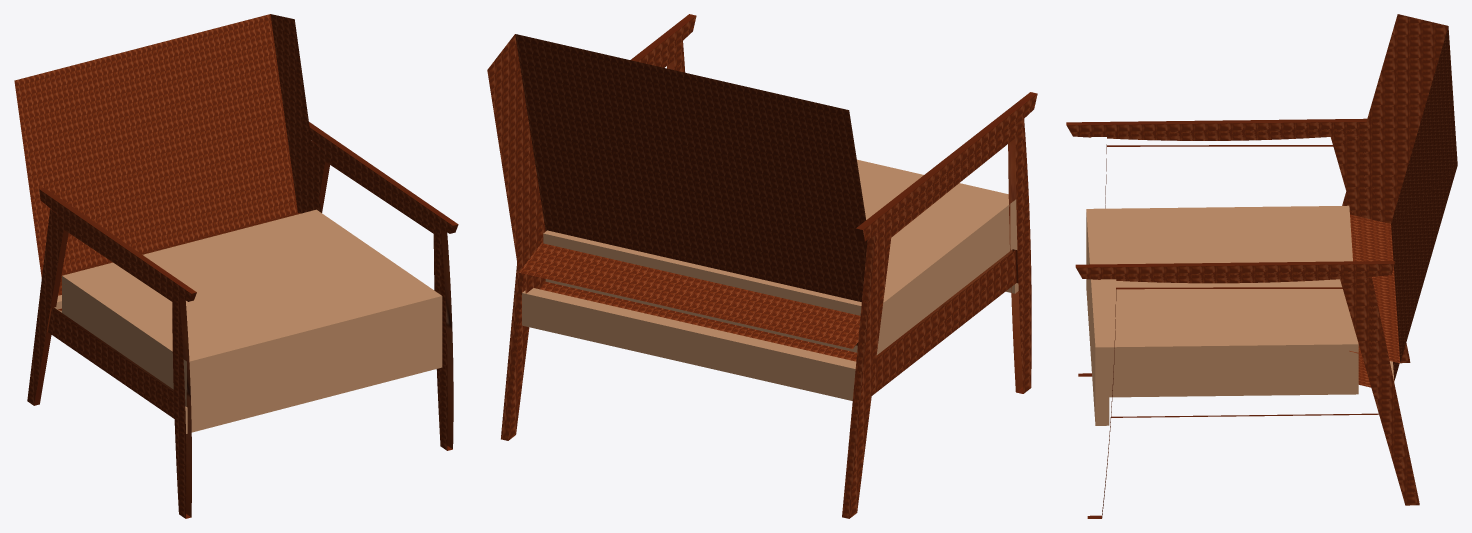
The model's file is kchair.glb.
3 renders of one model, left to right at view 1: azimuth 30°, elevation 25°; view 2: azimuth 150°, elevation 25°; view 3: azimuth 270°, elevation 25°, orthographic. The views are drawn at different scales.
Parts seen in each view (by area): view 1: Mesh342 Group168 FN_________KARIMOKU_KCHAIR2 _____ ____59E__, Mesh343 Group168 FN_________KARIMOKU_KCHAIR2 _____ ____59E__, Mesh345 Group168 FN_________KARIMOKU_KCHAIR2 _____ ____59E__; view 2: Mesh342 Group168 FN_________KARIMOKU_KCHAIR2 _____ ____59E__, Mesh345 Group168 FN_________KARIMOKU_KCHAIR2 _____ ____59E__, Mesh343 Group168 FN_________KARIMOKU_KCHAIR2 _____ ____59E__, Mesh344 Group168 FN_________KARIMOKU_KCHAIR2 _____ ____59E__; view 3: Mesh343 Group168 FN_________KARIMOKU_KCHAIR2 _____ ____59E__, Mesh342 Group168 FN_________KARIMOKU_KCHAIR2 _____ ____59E__, Mesh345 Group168 FN_________KARIMOKU_KCHAIR2 _____ ____59E__.
Part boxes in pixels (box(x1,y1,x2,y2)): Mesh342 Group168 FN_________KARIMOKU_KCHAIR2 _____ ____59E__: box(14, 14, 458, 450); Mesh343 Group168 FN_________KARIMOKU_KCHAIR2 _____ ____59E__: box(62, 209, 442, 433); Mesh345 Group168 FN_________KARIMOKU_KCHAIR2 _____ ____59E__: box(27, 187, 196, 518); Mesh342 Group168 FN_________KARIMOKU_KCHAIR2 _____ ____59E__: box(487, 14, 867, 440); Mesh345 Group168 FN_________KARIMOKU_KCHAIR2 _____ ____59E__: box(842, 92, 1037, 518); Mesh343 Group168 FN_________KARIMOKU_KCHAIR2 _____ ____59E__: box(543, 159, 1018, 354); Mesh344 Group168 FN_________KARIMOKU_KCHAIR2 _____ ____59E__: box(522, 288, 856, 400); Mesh343 Group168 FN_________KARIMOKU_KCHAIR2 _____ ____59E__: box(1086, 205, 1358, 425); Mesh342 Group168 FN_________KARIMOKU_KCHAIR2 _____ ____59E__: box(1075, 14, 1457, 518); Mesh345 Group168 FN_________KARIMOKU_KCHAIR2 _____ ____59E__: box(1066, 118, 1410, 376).
Size of the model in its own units: 0.652 by 0.73 by 0.7221.
Materials: 5 (2 with a texture image).
